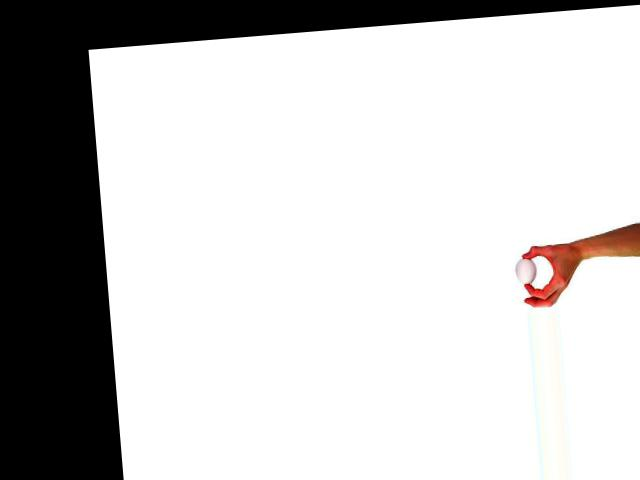egg: (514, 257, 538, 284)
